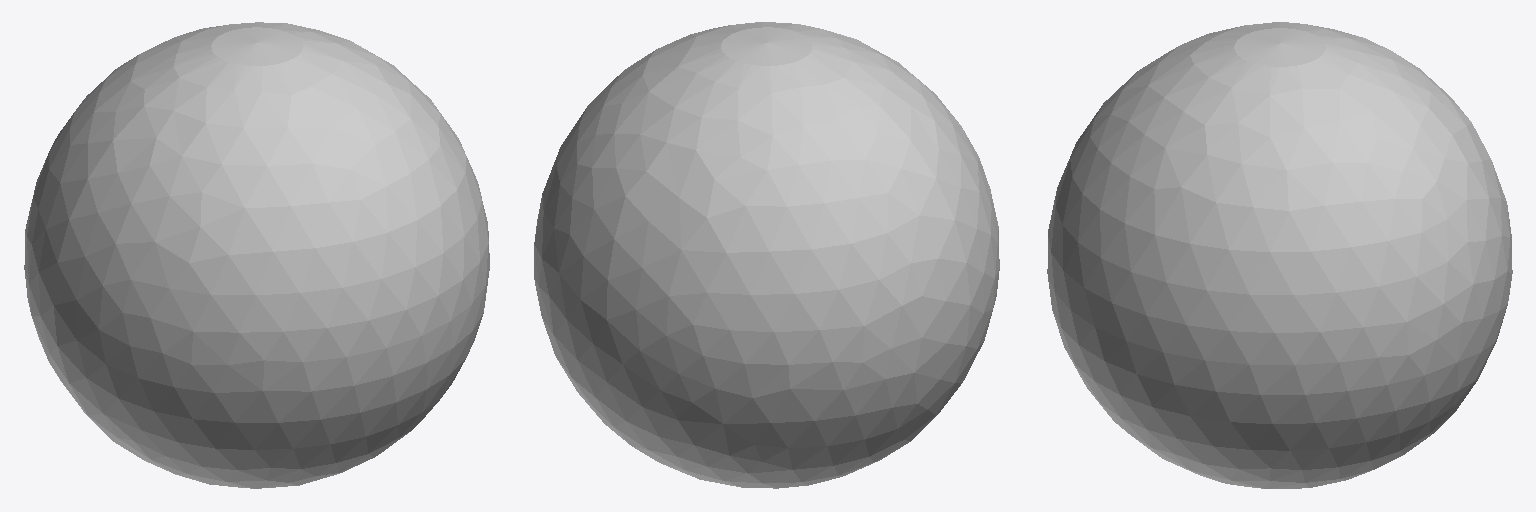
Rendered from isotropic_remeshed.obj.
3 renders of one model, left to right at view 1: azimuth 30°, elevation 25°; view 2: azimuth 150°, elevation 25°; view 3: azimuth 270°, elevation 25°, orthographic.
Size of the model in its own units: 1.99 by 2 by 1.98.